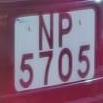0: (56, 45, 76, 86)
5: (17, 51, 37, 92), (75, 42, 92, 83)
7: (36, 48, 57, 89)
N: (36, 12, 58, 54)
P: (56, 10, 75, 52)
